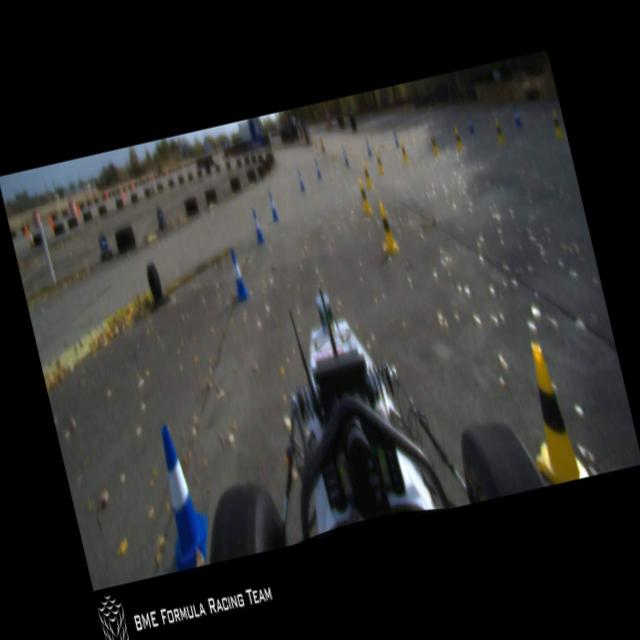blue_cone: (141, 418, 217, 570), (223, 247, 250, 302), (248, 207, 265, 242), (266, 193, 278, 220), (312, 156, 322, 178), (295, 168, 305, 190), (511, 105, 521, 127), (426, 120, 436, 140), (340, 146, 350, 165), (391, 129, 400, 148), (364, 138, 372, 158), (466, 115, 474, 134)
yellow_cone: (508, 334, 588, 486), (372, 198, 400, 256), (355, 177, 372, 215), (548, 106, 564, 141), (396, 138, 409, 165), (360, 160, 372, 186), (492, 120, 504, 144), (374, 149, 384, 174), (452, 126, 462, 150), (429, 133, 439, 155)
